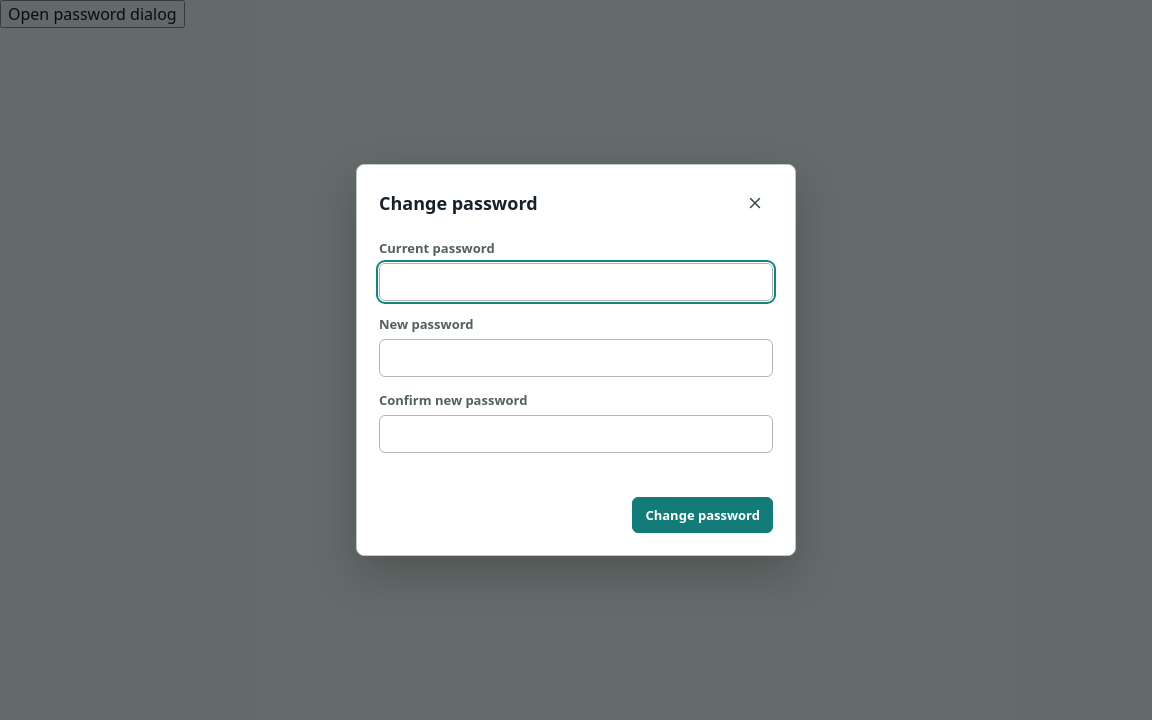
Test: ChangePasswordDialog › rejects a mismatched confirmation without submitting secrets
Type "CurrentPass9!" into the password field labelled "Current password" at (576, 282), box [379,263,773,301]
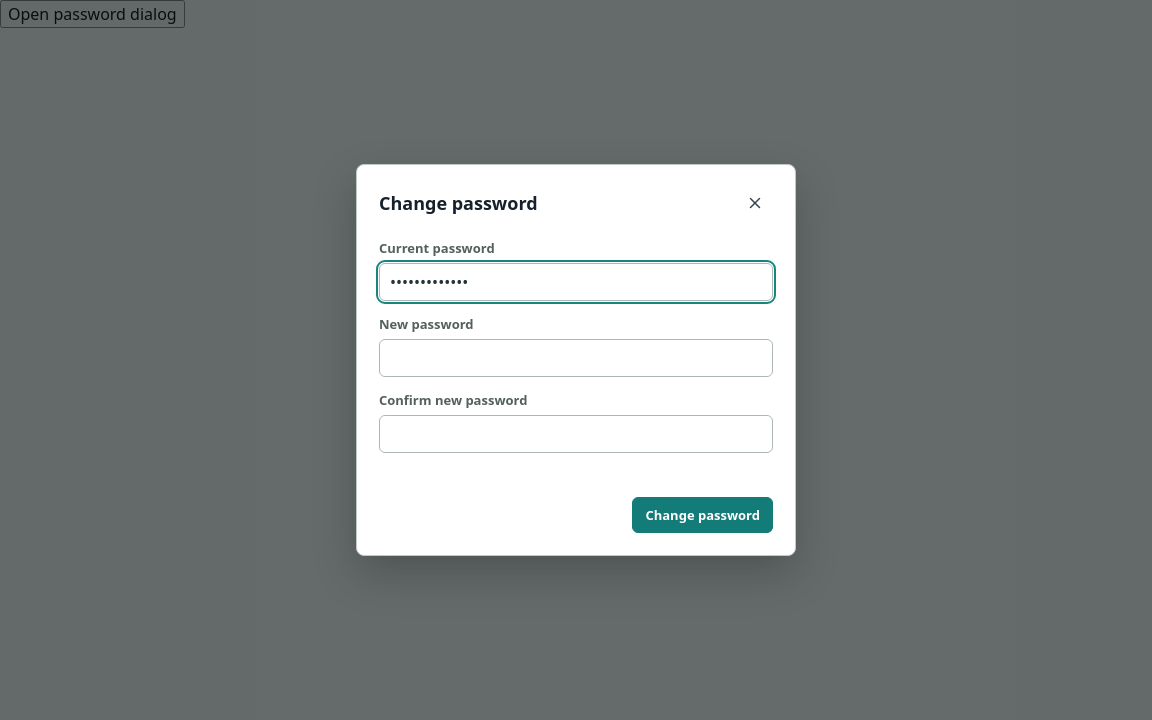
Type "ReplacementPass9!" into the password field labelled "New password" at (576, 358), box [379,339,773,377]
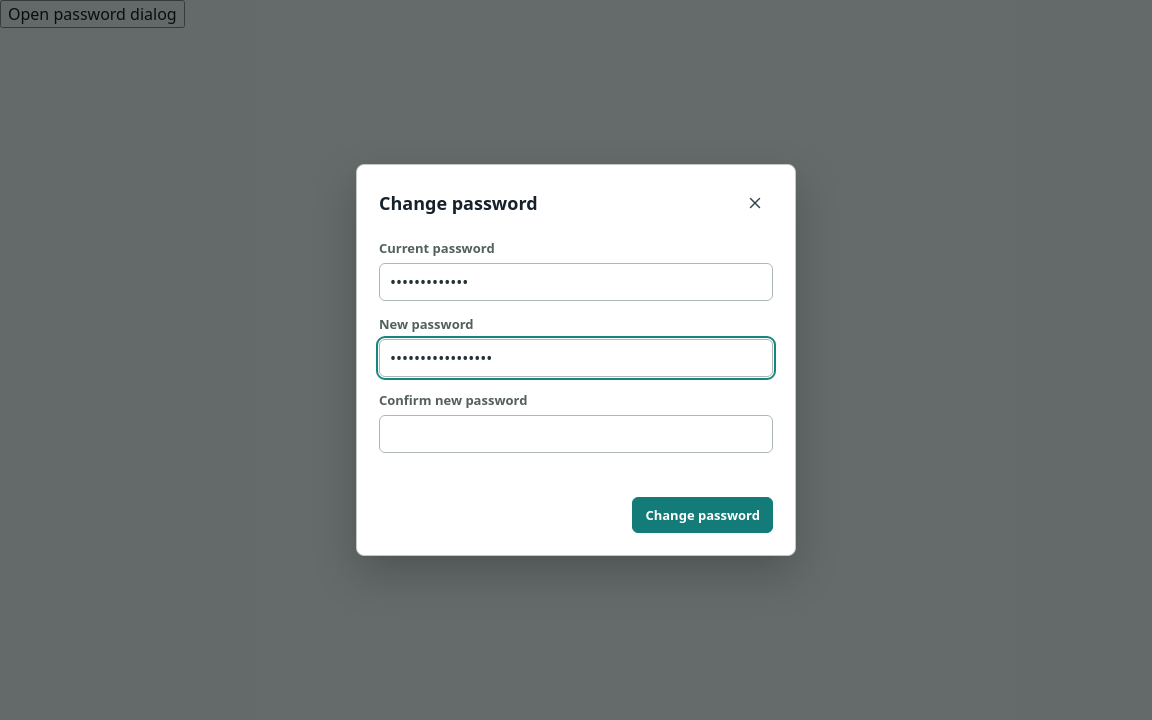
Type "DifferentPass9!" into the password field labelled "Confirm new password" at (576, 434), box [379,415,773,453]
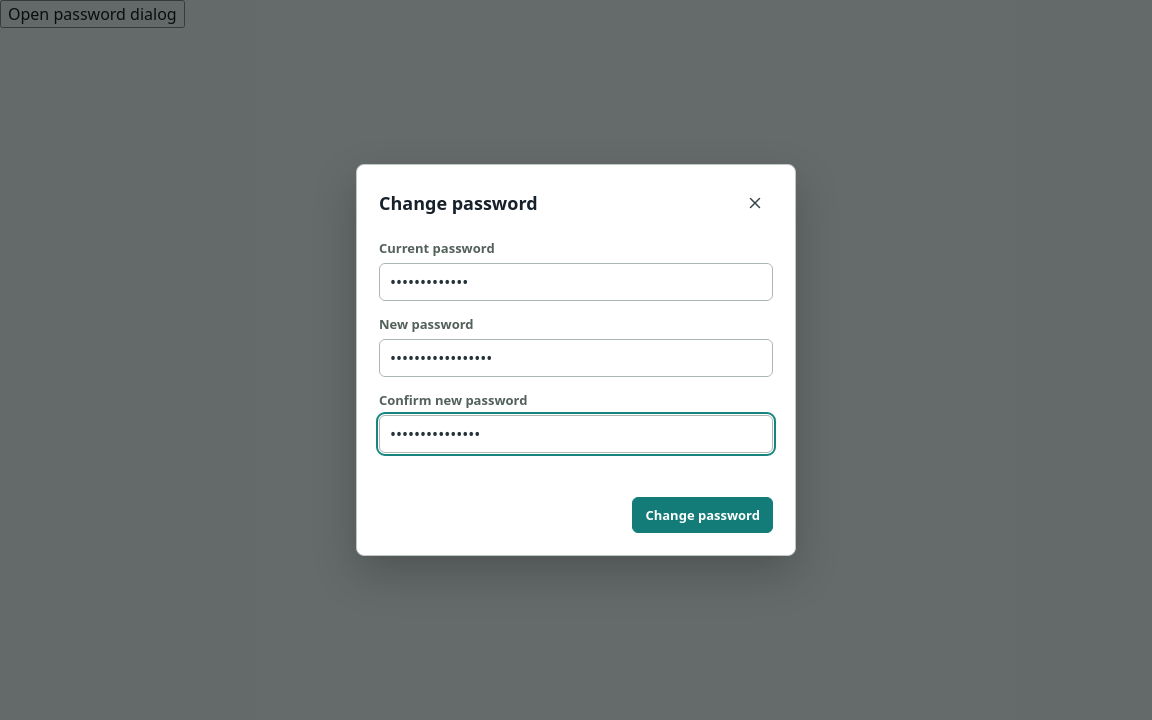
Click the button "Change password" at (703, 515), box [632,497,773,533]
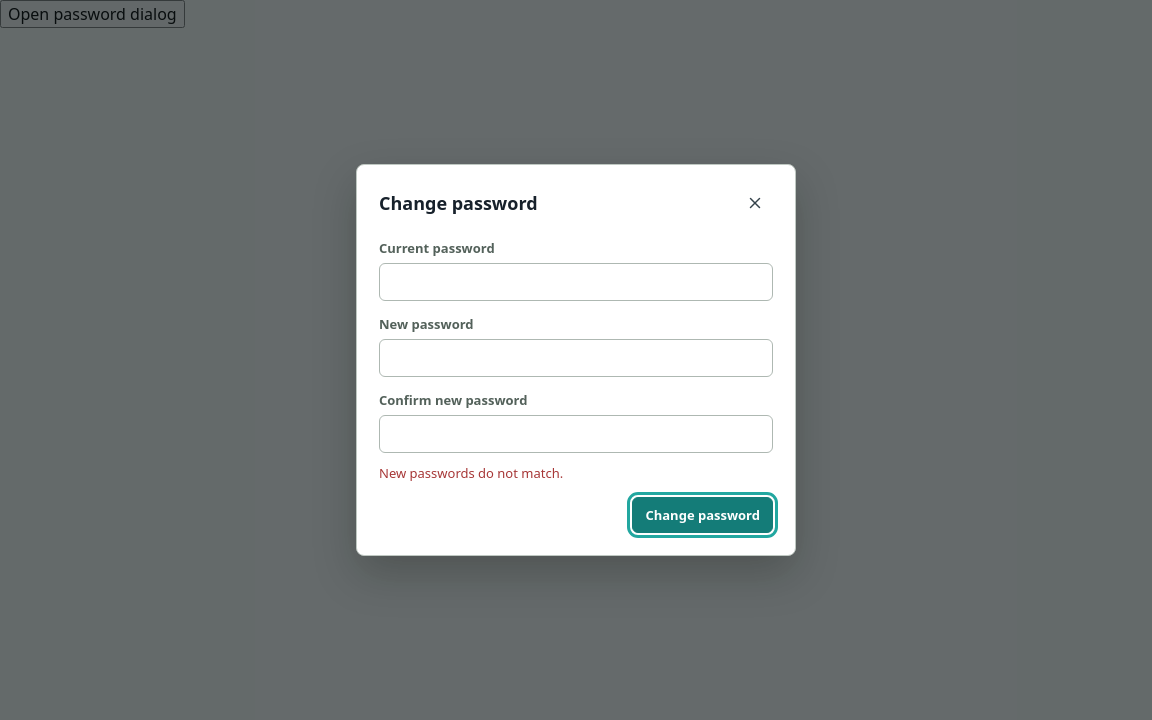
expect the message reads "New passwords do not match.": met, box [379,464,563,482]
expect the password field labelled "Current password" is empty: met, box [379,263,773,301]
expect the password field labelled "New password" is empty: met, box [379,339,773,377]
